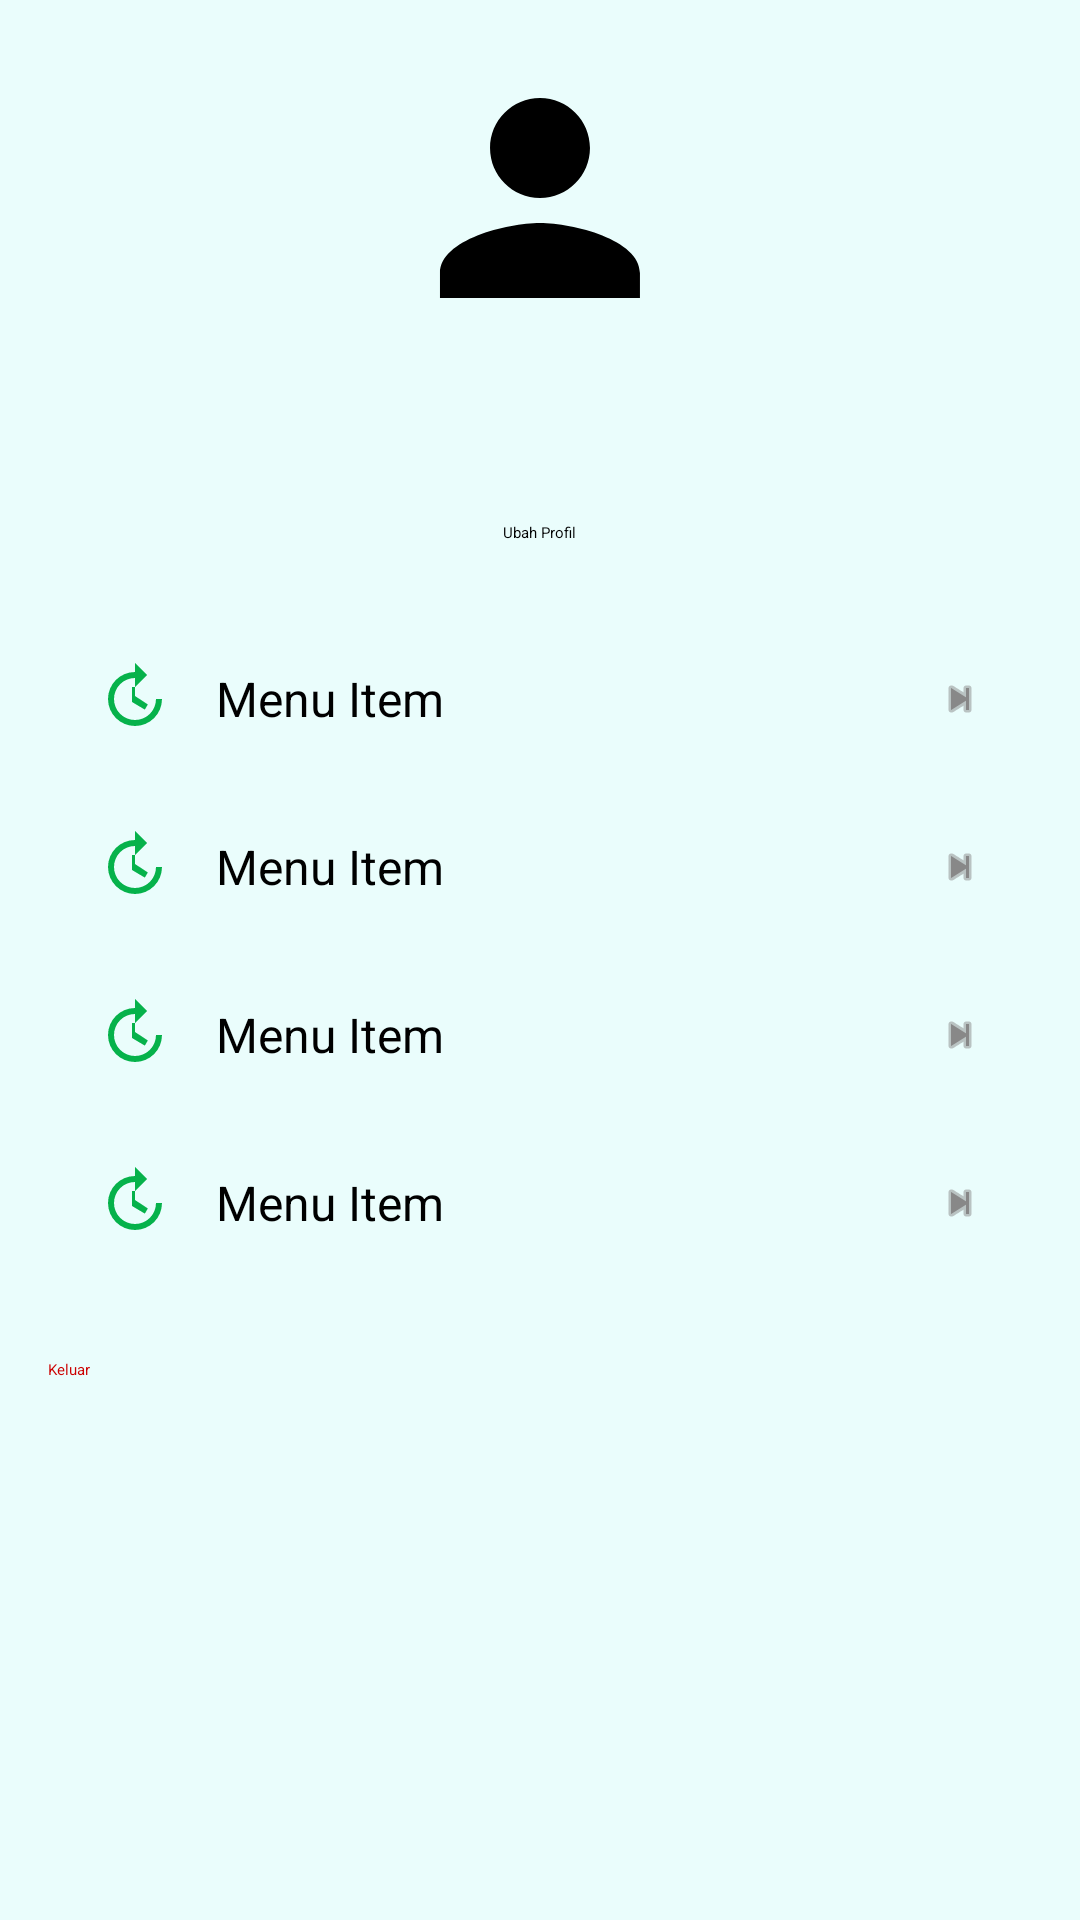

Icons on this 1080w x 1920h Android screen, each with its box as detection(x1, y1, x2, y2):
history: detection(108, 663, 162, 726), detection(108, 831, 162, 894), detection(108, 999, 162, 1062), detection(108, 1167, 162, 1230)
next: detection(948, 685, 972, 713), detection(948, 853, 972, 881), detection(948, 1021, 972, 1049), detection(948, 1189, 972, 1217)
profile: detection(440, 98, 640, 298)
